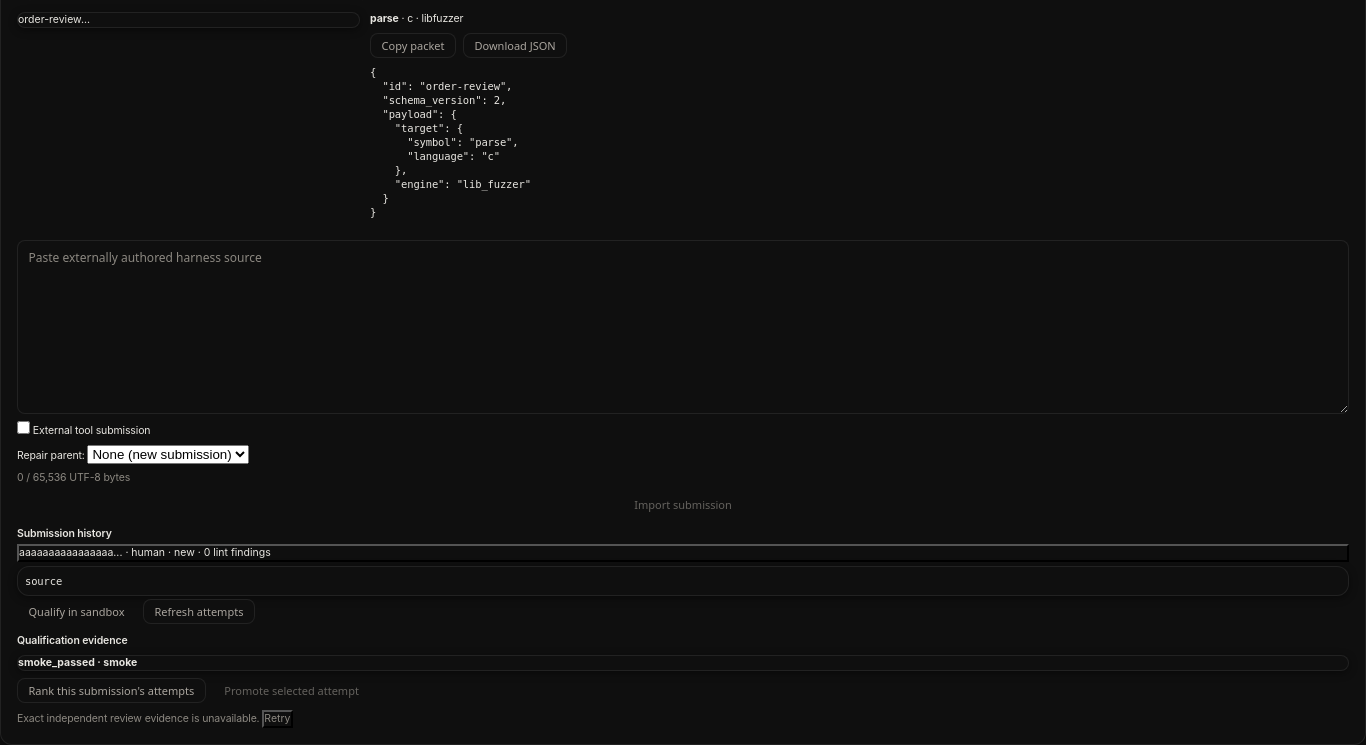
it: expert workflow panels › shows missing exact review evidence with a retry action
(page scrolled)
expect the button "Promote selected attempt" is disabled: met, box [213,678,370,703]
Click the button "Retry" at [277, 719], box [262,710,292,728]
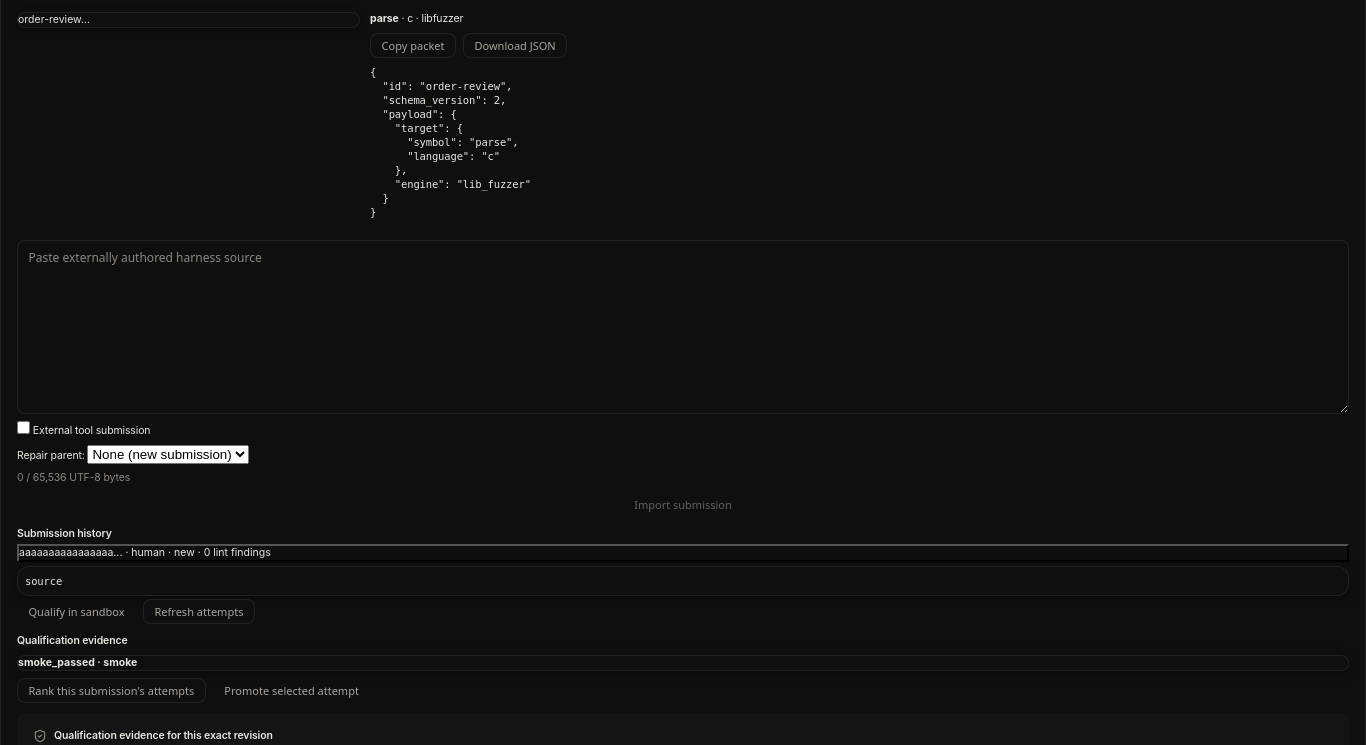
expect the button "Promote selected attempt" is enabled: met, box [213,678,370,703]
